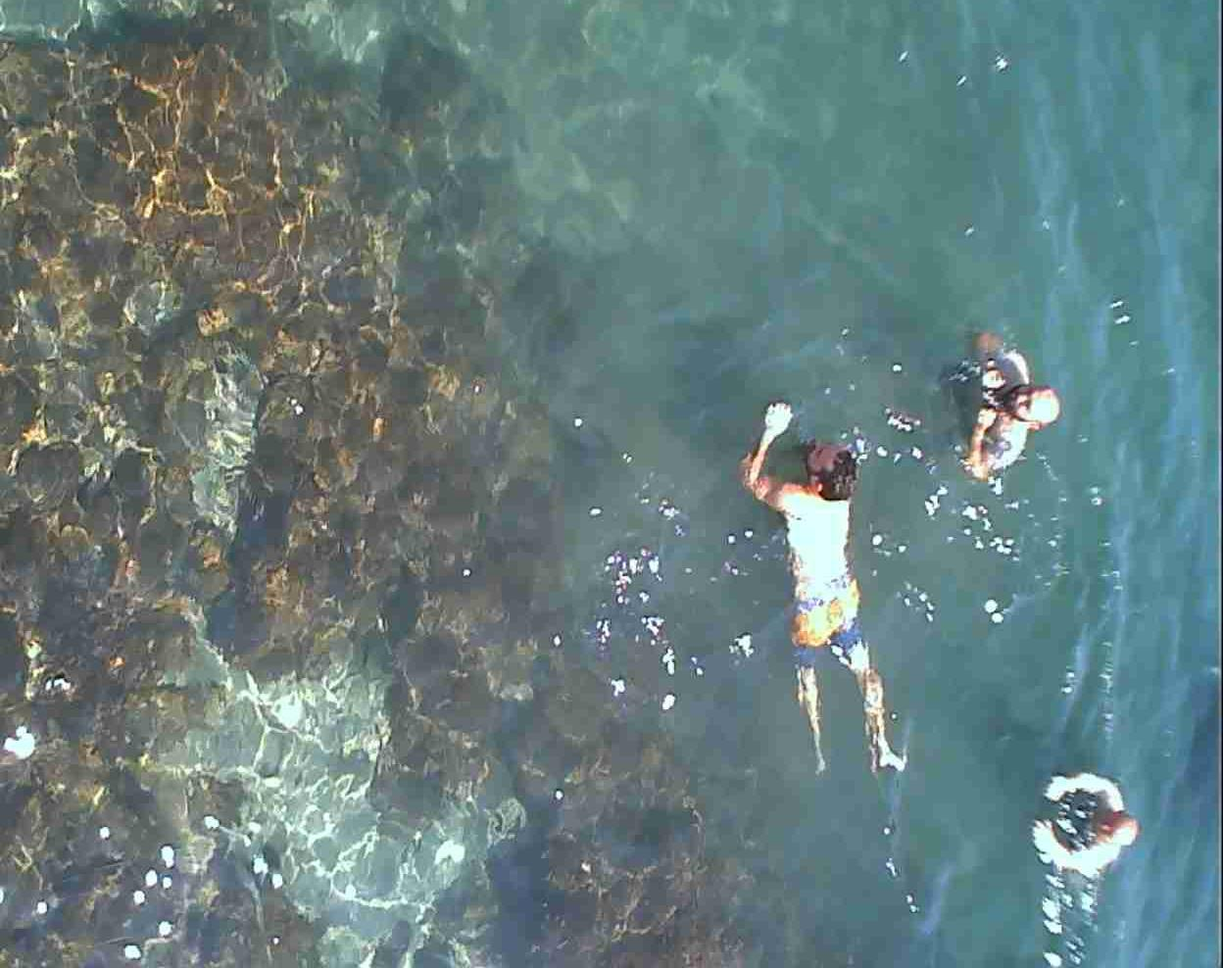swimmer: (746, 383, 900, 791), (947, 325, 1055, 490), (1031, 747, 1133, 884)
